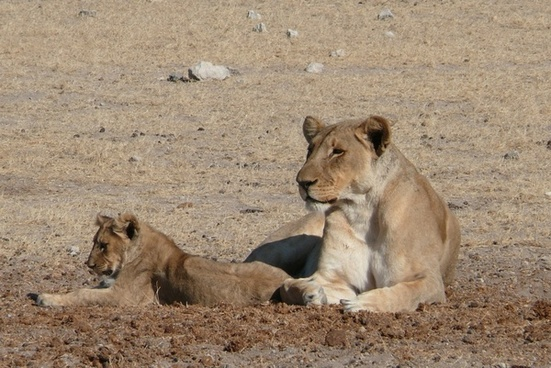lion: (293, 116, 392, 219), (87, 215, 148, 284)
